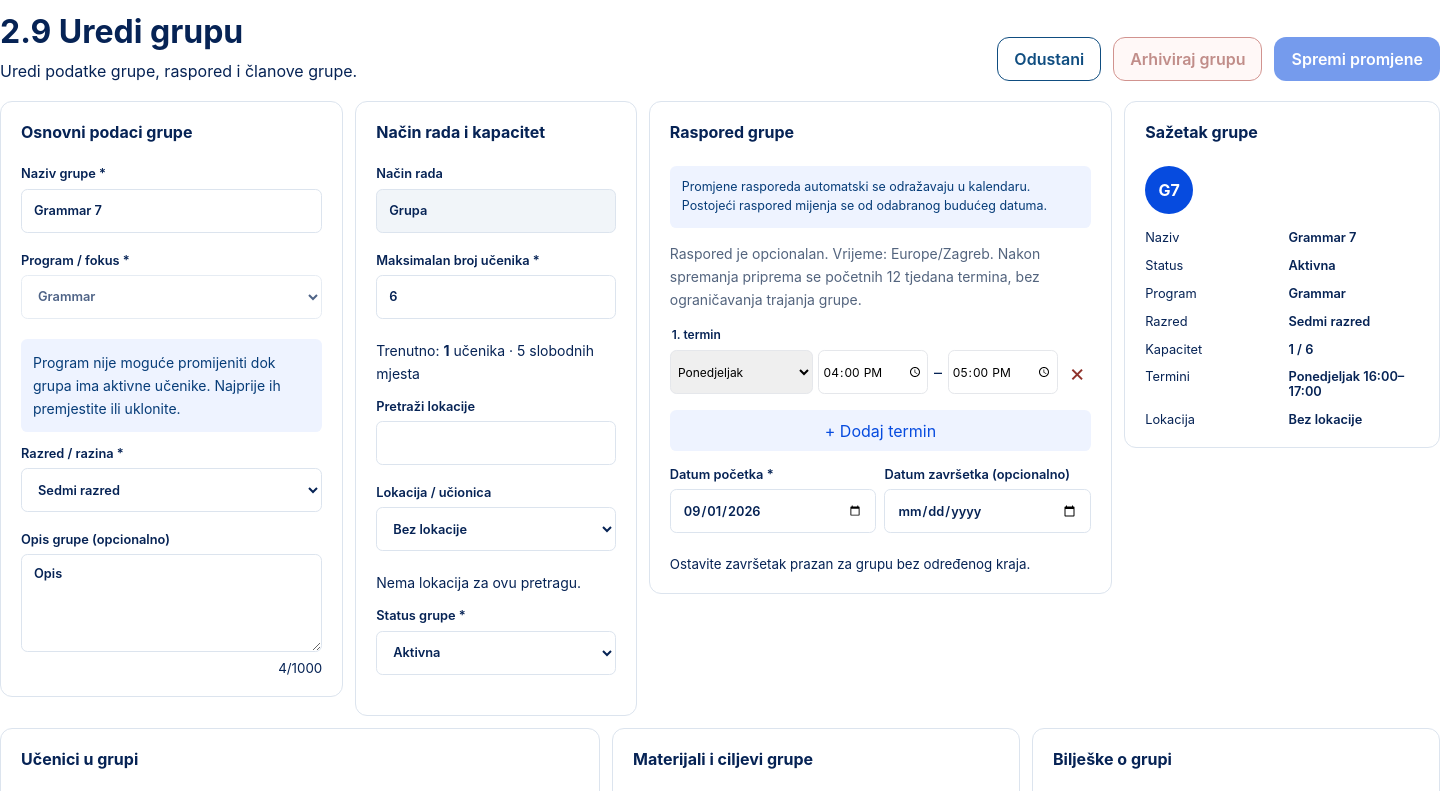
group editing › does not mix membership writes with dirty form data
Replace the text in the field labelled "Naziv grupe *" with "Nespremljeno" at (172, 211), box [21, 189, 322, 233]
(page scrolled)
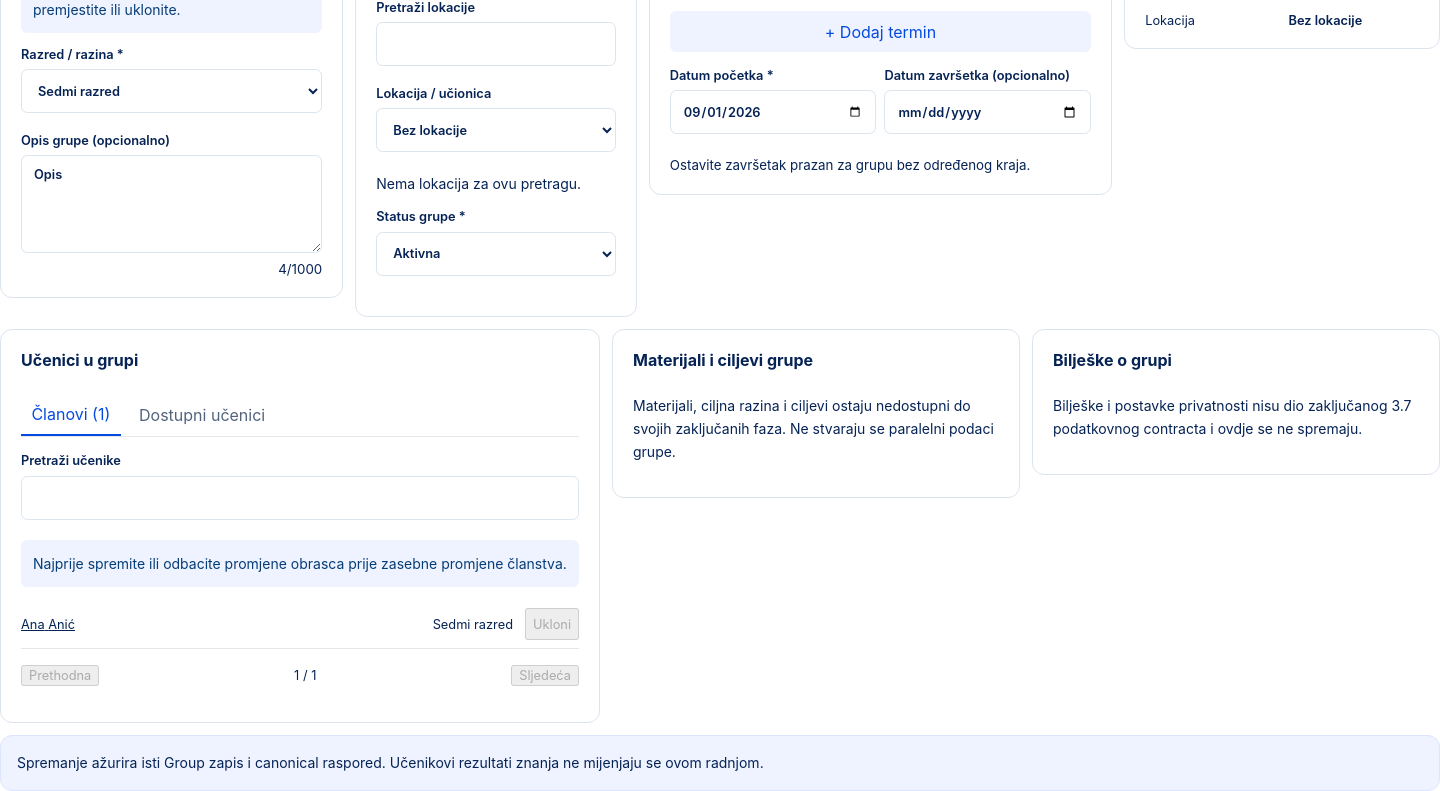
expect the button "Ukloni" is disabled: met, box [525, 608, 579, 640]
expect the text "Najprije spremite ili odbacite promjene" is shown: met, box [33, 555, 567, 572]
